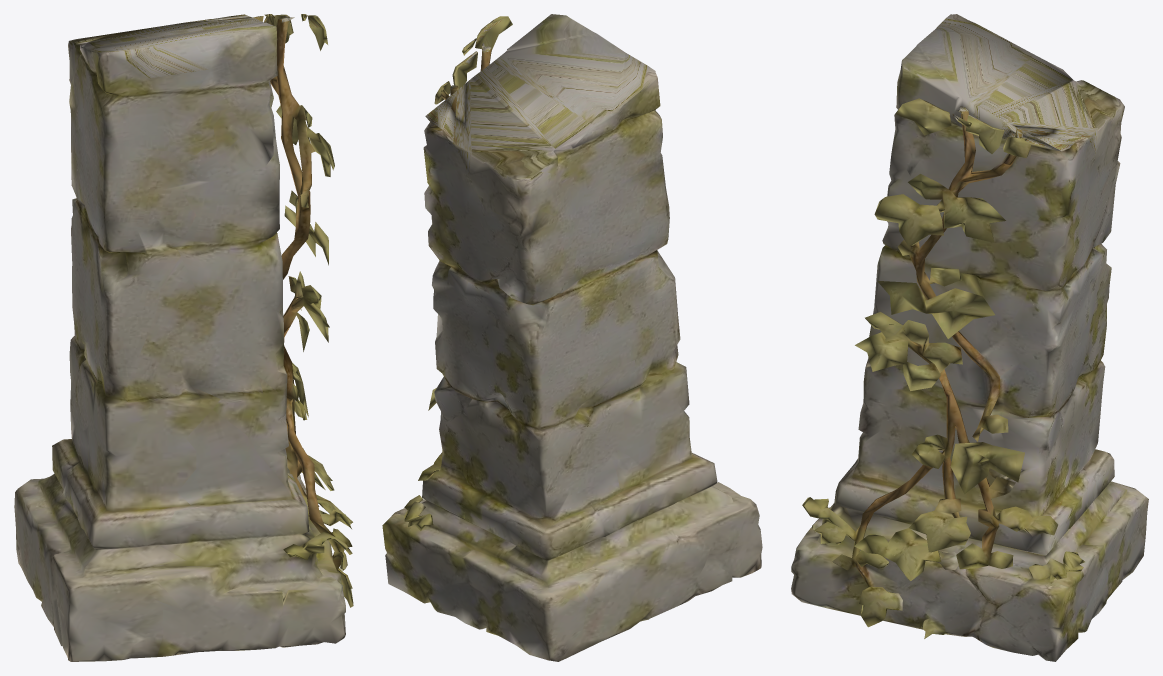
The model's file is ruin_pillar_b.glb.
The picture shows the model from 3 angles, left to right: view 1: azimuth 30°, elevation 25°; view 2: azimuth 150°, elevation 25°; view 3: azimuth 270°, elevation 25°; orthographic projection. The views are drawn at different scales.
Visible parts, largest first — view 1: ruin_pillar_b__stone; view 2: ruin_pillar_b__stone; view 3: ruin_pillar_b__stone.
Part boxes in pixels (left/top/right/bottom): ruin_pillar_b__stone: left=14, top=14, right=353, bottom=661; ruin_pillar_b__stone: left=382, top=14, right=762, bottom=661; ruin_pillar_b__stone: left=791, top=14, right=1148, bottom=661.
Size of the model in its own units: 0.804 by 1.42 by 0.8368.
1 material, 1 textured.
